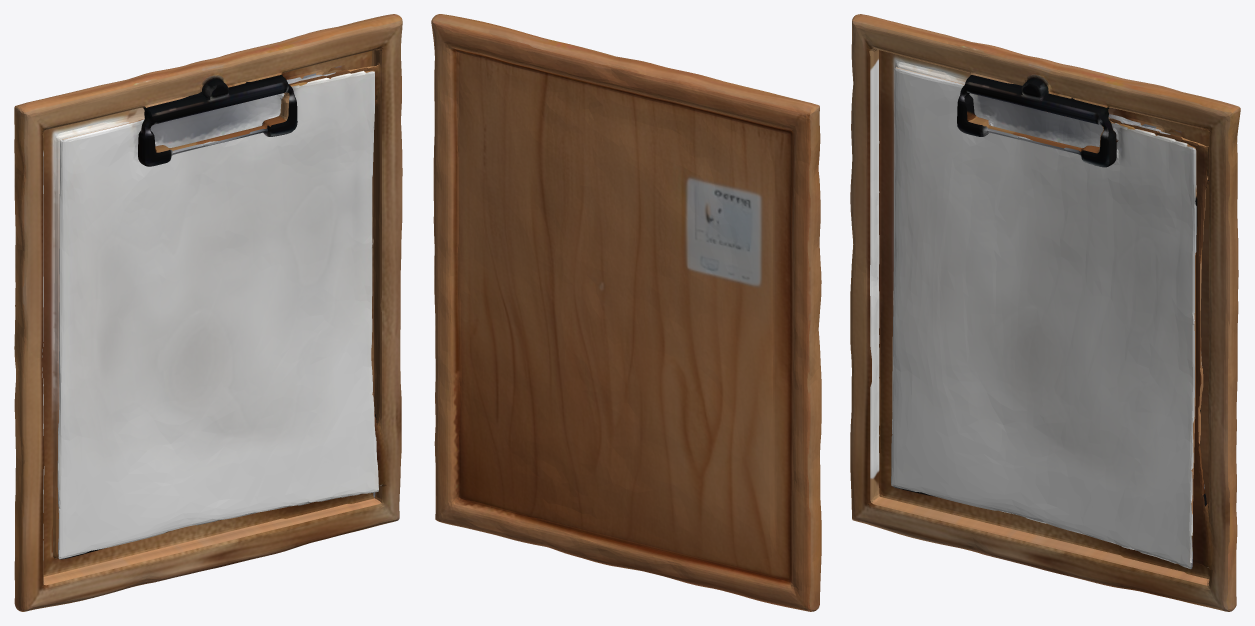
File: mdl_price_poster_001.glb
3 views of the same model, side by side, from view 1: azimuth 30°, elevation 25°; view 2: azimuth 150°, elevation 25°; view 3: azimuth 330°, elevation 25° (orthographic).
Parts seen in each view (by area): view 1: tmpgz9rg46i.ply; view 2: tmpgz9rg46i.ply; view 3: tmpgz9rg46i.ply.
Boxes of the visible parts, x1,y1,x2,y2 form: tmpgz9rg46i.ply: (14,14,402,611); tmpgz9rg46i.ply: (431,14,821,611); tmpgz9rg46i.ply: (850,14,1240,611).
Bounding box in the file's own units: 0.7834 × 0.9901 × 0.073.
1 material, 1 textured.
